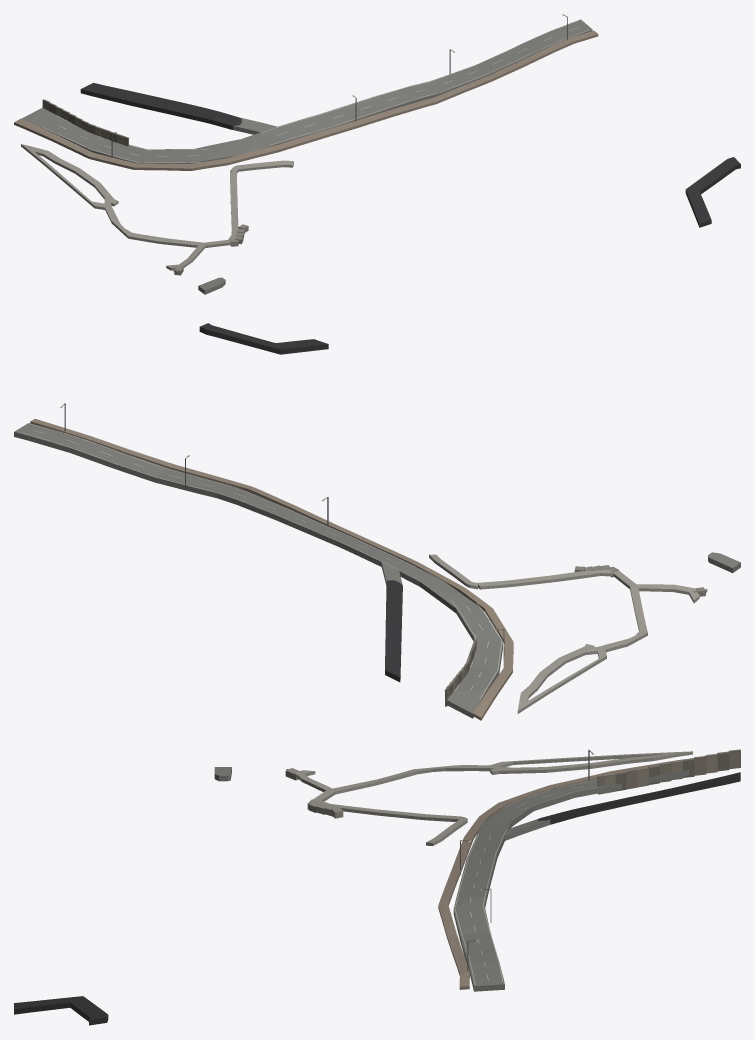
3 renders of one model, top to bottom at view 1: azimuth 30°, elevation 25°; view 2: azimuth 150°, elevation 25°; view 3: azimuth 270°, elevation 25°, orthographic. The views are drawn at different scales.
Size of the model in its own units: 147 by 27.61 by 146.
